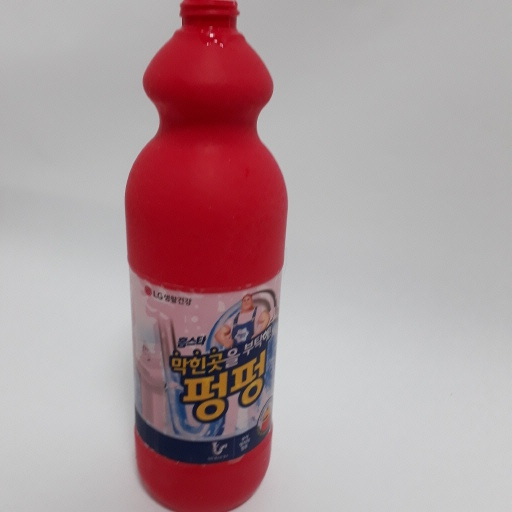Plastic_0: (121, 1, 292, 511)
